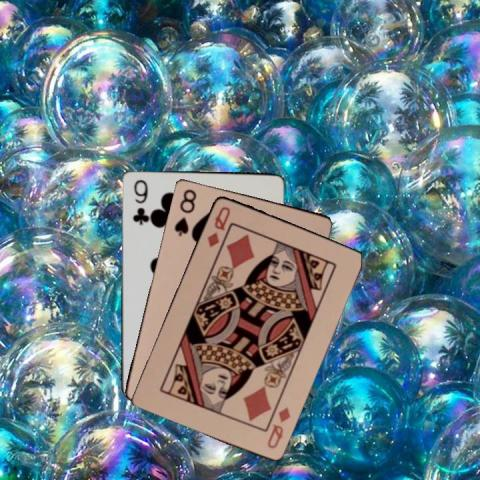8s: (171, 186, 198, 237)
9c: (129, 177, 147, 226)
Qd: (203, 202, 232, 248), (264, 403, 292, 450)
